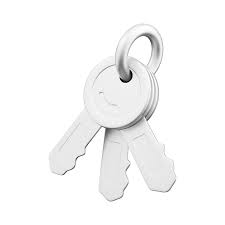key: (46, 56, 156, 188)
